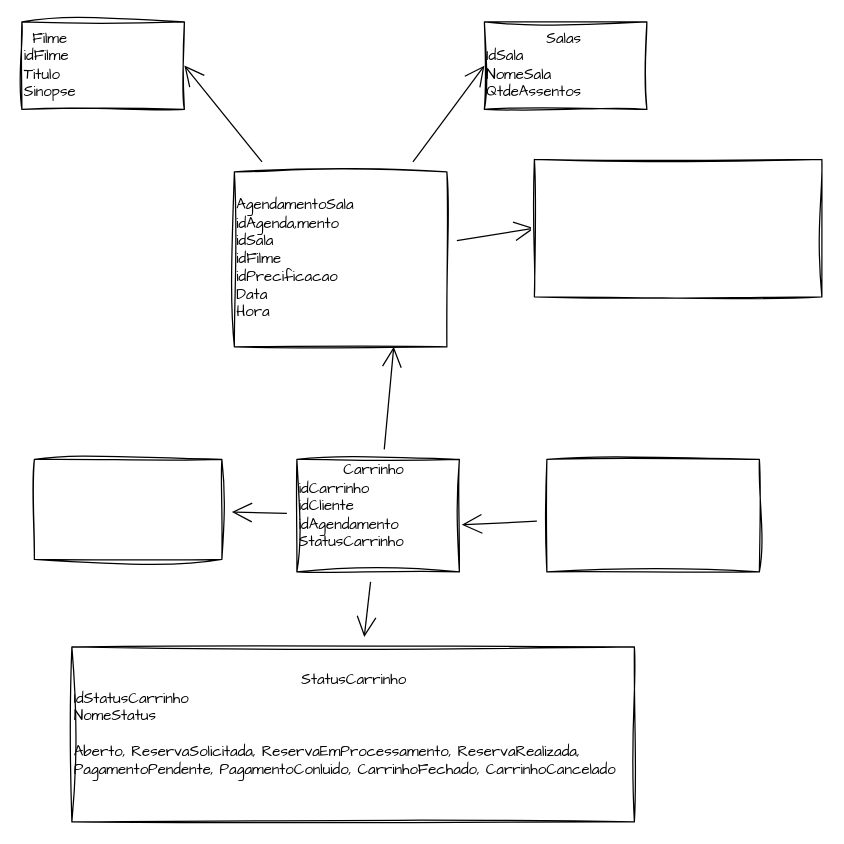
Some shapes in this 844 by 844 pixel diagram are drawn without their labels. The box of each missing label's shape, as (x1, y1, x2, y2) in pixels:
Cliente idCliente Nome DataNascimento: (33, 458, 222, 559)
Ingresso idIngresso idCarrinho: (546, 458, 759, 572)
PrecificacaoHorario idPrecificacao dia matine noite Valor: (533, 158, 822, 297)
